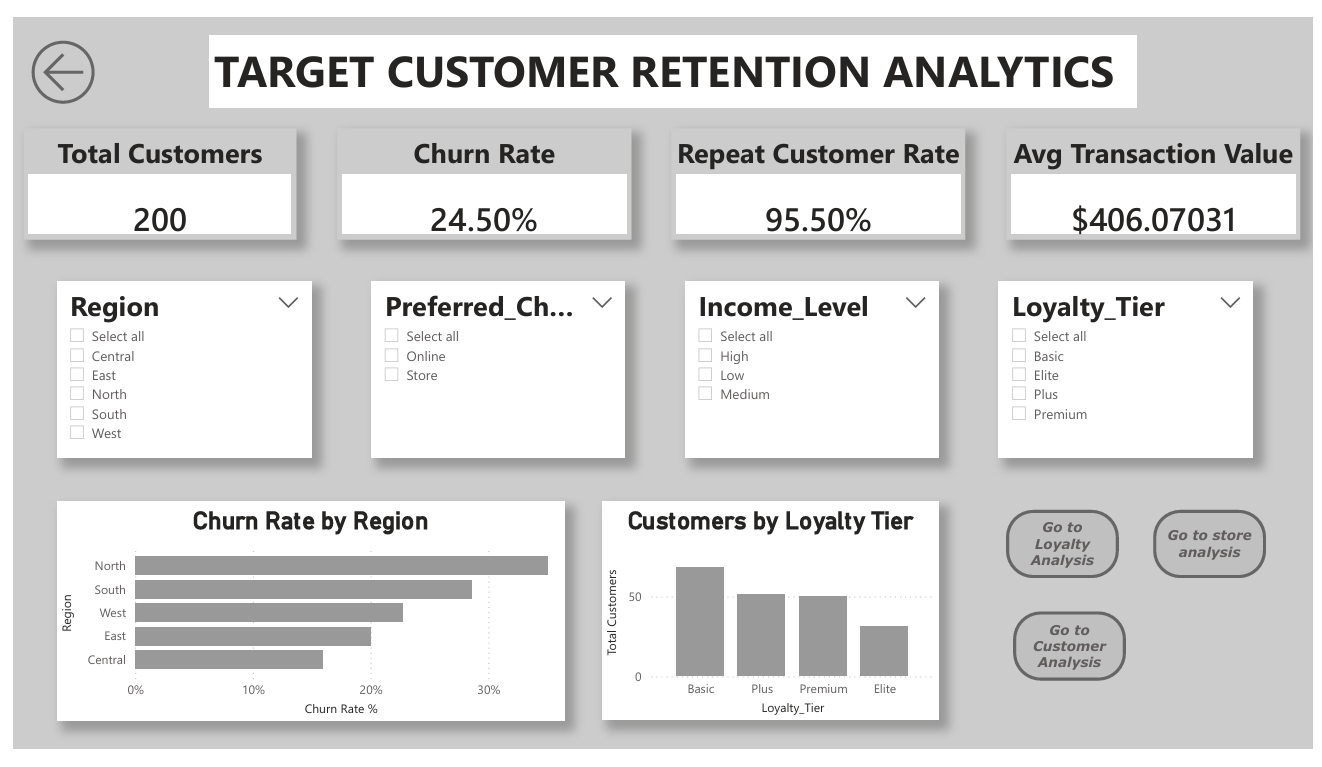

Layout of this report page (visuals, bound fields, positions):
{"tool":"powerbi","page":{"name":"Churn & Retention Overview","canvas":[1280,720],"ordinal":0},"visuals":[{"type":"textbox","box":[192.7,17.5,913.9,71.5],"z":0},{"type":"cardVisual","title":"Total Customers","fields":{"Data":["Measures_Table.Total Customers"]},"box":[9.9,108.6,269.3,110],"z":1000},{"type":"cardVisual","title":"Churn Rate","fields":{"Data":["Measures_Table.Churn Rate %"]},"box":[318.8,108.6,290,110],"z":2000},{"type":"cardVisual","title":"Repeat Customer Rate","fields":{"Data":["Measures_Table.Repeat Customer Rate %"]},"box":[648.4,108.6,290,110],"z":3000},{"type":"cardVisual","title":"Avg Transaction Value","fields":{"Data":["Measures_Table.Avg Transaction Value"]},"box":[978.1,108.6,290,110],"z":4000},{"type":"slicer","fields":{"Values":["Store_Locations.Region"]},"box":[43.4,260.3,250.5,173.5],"z":5000},{"type":"slicer","fields":{"Values":["Customer_Demographics.Income_Level"]},"box":[661.8,260.3,250.5,173.5],"z":6000},{"type":"slicer","fields":{"Values":["Customer_Demographics.Preferred_Channel"]},"box":[352.6,260.3,250.5,173.5],"z":7000},{"type":"slicer","fields":{"Values":["Loyalty_Program.Loyalty_Tier"]},"box":[971.1,260.3,250.5,173.5],"z":8000},{"type":"clusteredBarChart","title":"Churn Rate by Region","fields":{"Category":["Customer_Demographics.Region"],"Y":["Measures_Table.Churn Rate %"]},"box":[43.4,477.1,499.5,215.5],"z":9000},{"type":"clusteredColumnChart","title":"Customers by Loyalty Tier","fields":{"Category":["Loyalty_Program.Loyalty_Tier"],"Y":["Measures_Table.Total Customers"]},"box":[579.6,477.4,332.8,214.6],"z":10000},{"type":"actionButton","box":[978.1,484.7,110.9,67.2],"z":11000},{"type":"actionButton","box":[1122.6,484.7,110.9,67.2],"z":12000},{"type":"actionButton","box":[985.4,585.4,110.9,67.2],"z":13000},{"type":"actionButton","box":[10.2,14.6,99.3,78.8],"z":14000}]}

Visuals, with their boxes on the page's 1280x720 design canvas (x1, y1, x2, y2). These are canvas units, not pixel positions in the 1322x767 screenshot, which may show the page scaled, cropped or inside an application window:
textbox: x1=193 y1=18 x2=1107 y2=89
"Total Customers" cardVisual: x1=10 y1=109 x2=279 y2=219
"Churn Rate" cardVisual: x1=319 y1=109 x2=609 y2=219
"Repeat Customer Rate" cardVisual: x1=648 y1=109 x2=938 y2=219
"Avg Transaction Value" cardVisual: x1=978 y1=109 x2=1268 y2=219
slicer - Store_Locations.Region: x1=43 y1=260 x2=294 y2=434
slicer - Customer_Demographics.Income_Level: x1=662 y1=260 x2=912 y2=434
slicer - Customer_Demographics.Preferred_Channel: x1=353 y1=260 x2=603 y2=434
slicer - Loyalty_Program.Loyalty_Tier: x1=971 y1=260 x2=1222 y2=434
"Churn Rate by Region" clusteredBarChart: x1=43 y1=477 x2=543 y2=693
"Customers by Loyalty Tier" clusteredColumnChart: x1=580 y1=477 x2=912 y2=692
actionButton: x1=978 y1=485 x2=1089 y2=552
actionButton: x1=1123 y1=485 x2=1234 y2=552
actionButton: x1=985 y1=585 x2=1096 y2=653
actionButton: x1=10 y1=15 x2=110 y2=93
